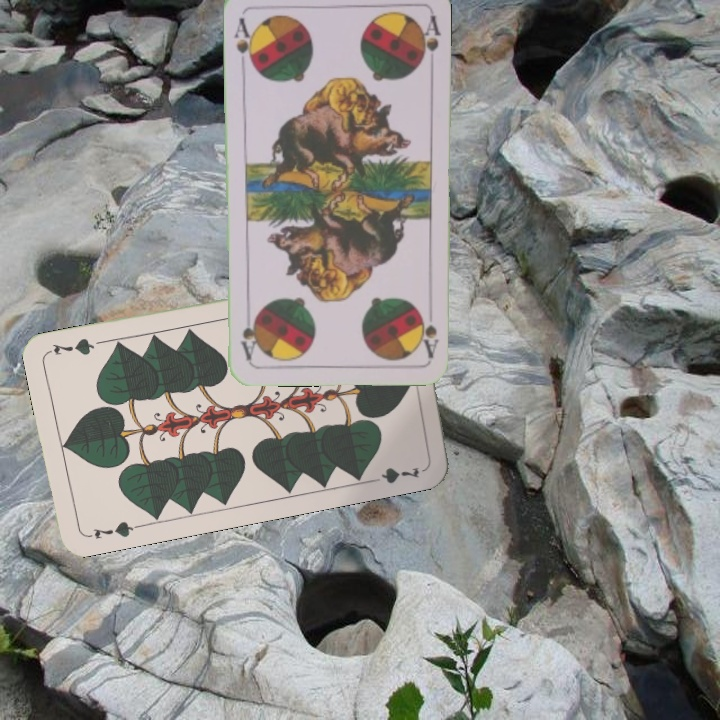G7: (82, 517, 141, 542)
SA: (230, 14, 257, 70), (417, 300, 441, 359)
